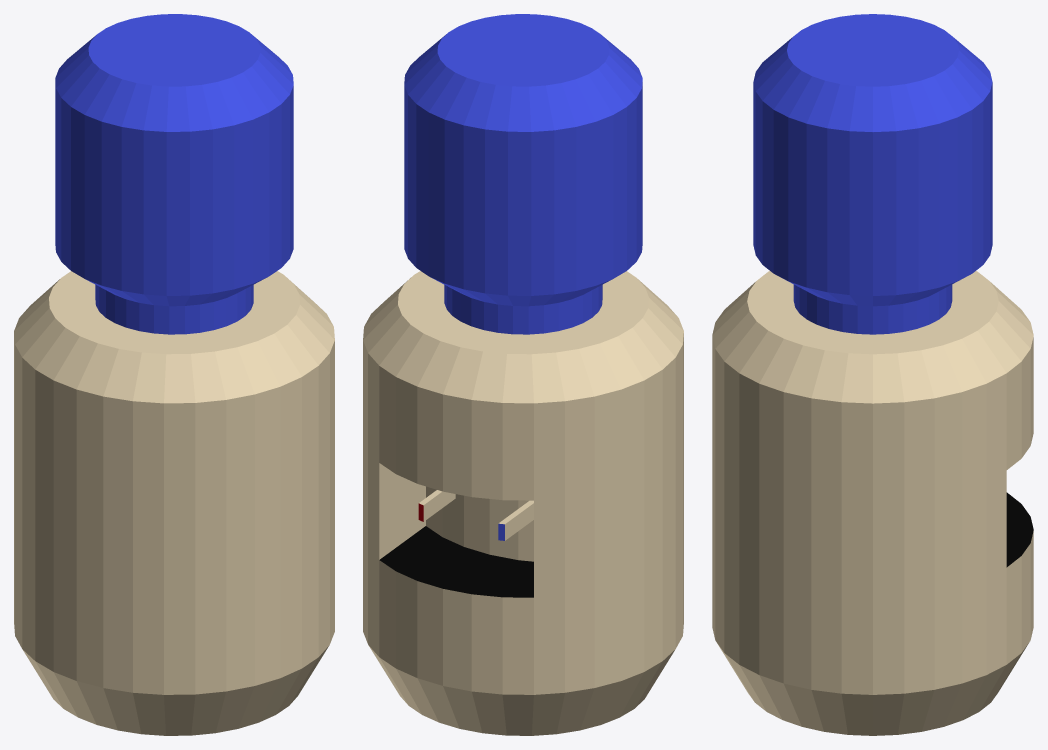
The model's file is WaterCooler.fbx.
3 views of the same model, side by side, from view 1: azimuth 30°, elevation 25°; view 2: azimuth 150°, elevation 25°; view 3: azimuth 270°, elevation 25° (orthographic).
Visible parts, largest first — view 1: Water Cooler; view 2: Water Cooler; view 3: Water Cooler.
Part boxes in pixels (bbox=[...]): Water Cooler: bbox=[14, 14, 334, 735]; Water Cooler: bbox=[363, 14, 683, 735]; Water Cooler: bbox=[712, 14, 1033, 735].
Bounding box in the file's own units: 200 × 433 × 200.
